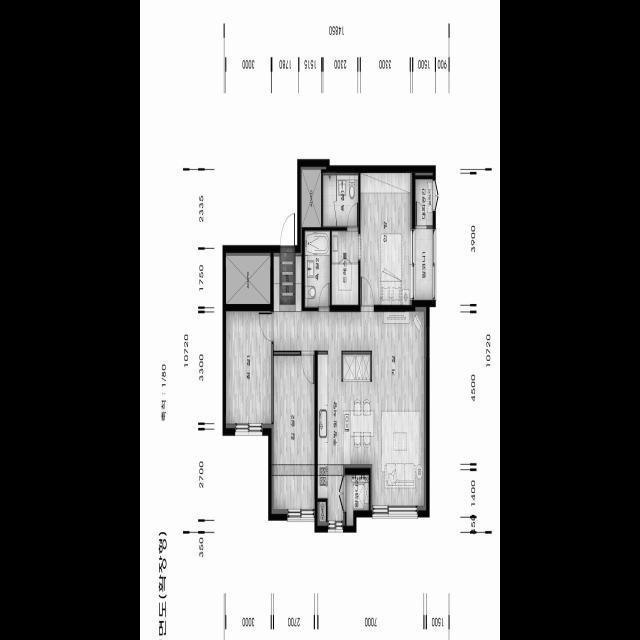background: (140, 0, 500, 640)
space_balconi: (415, 228, 433, 300), (346, 474, 369, 525)
space_bedroom: (271, 355, 315, 513), (360, 172, 412, 305), (226, 310, 272, 428)
space_dressroom: (332, 230, 358, 304)
space_front: (274, 252, 302, 311)
space_kitchen: (318, 350, 372, 525)
space_living_room: (274, 306, 426, 510)
space_other: (226, 252, 270, 304), (301, 166, 321, 227), (317, 501, 326, 525), (415, 172, 433, 175)
space_outdoor_room: (415, 178, 433, 225)
space_toilet: (323, 172, 359, 227), (305, 230, 330, 307)
